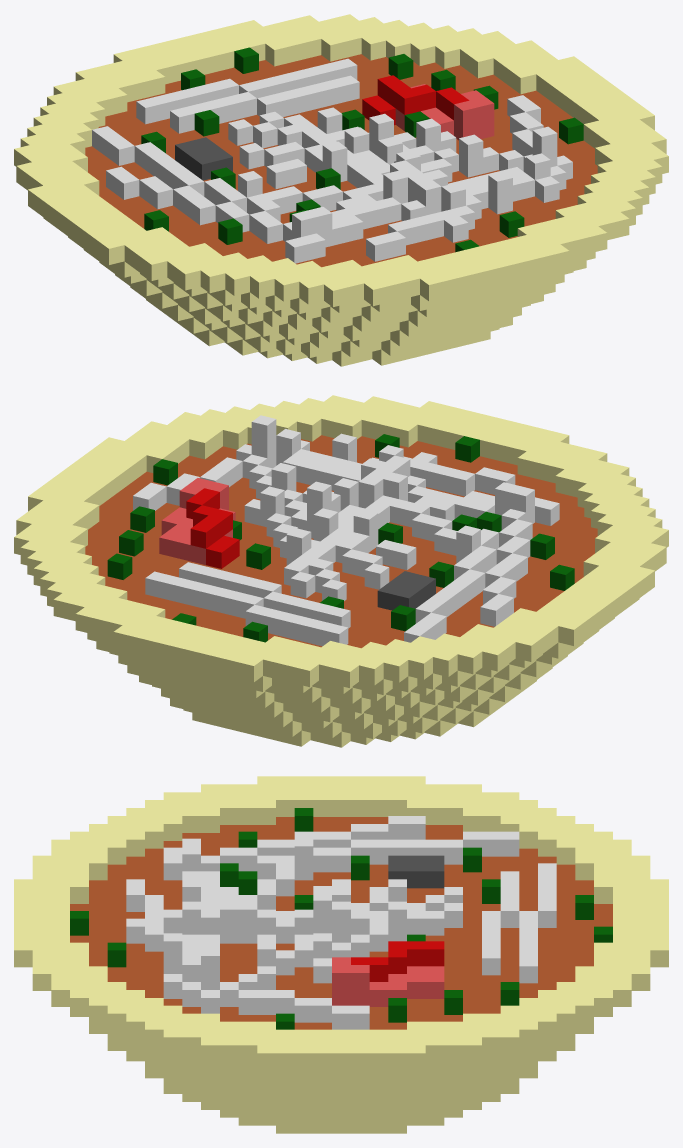
File: Bun BoBowl.obj
The picture shows the model from 3 angles, top to bottom: view 1: azimuth 30°, elevation 25°; view 2: azimuth 150°, elevation 25°; view 3: azimuth 270°, elevation 25°; orthographic projection. The views are drawn at different scales.
Size of the model in its own units: 3.5 by 1 by 3.5.
Materials: 1 (1 with a texture image).
